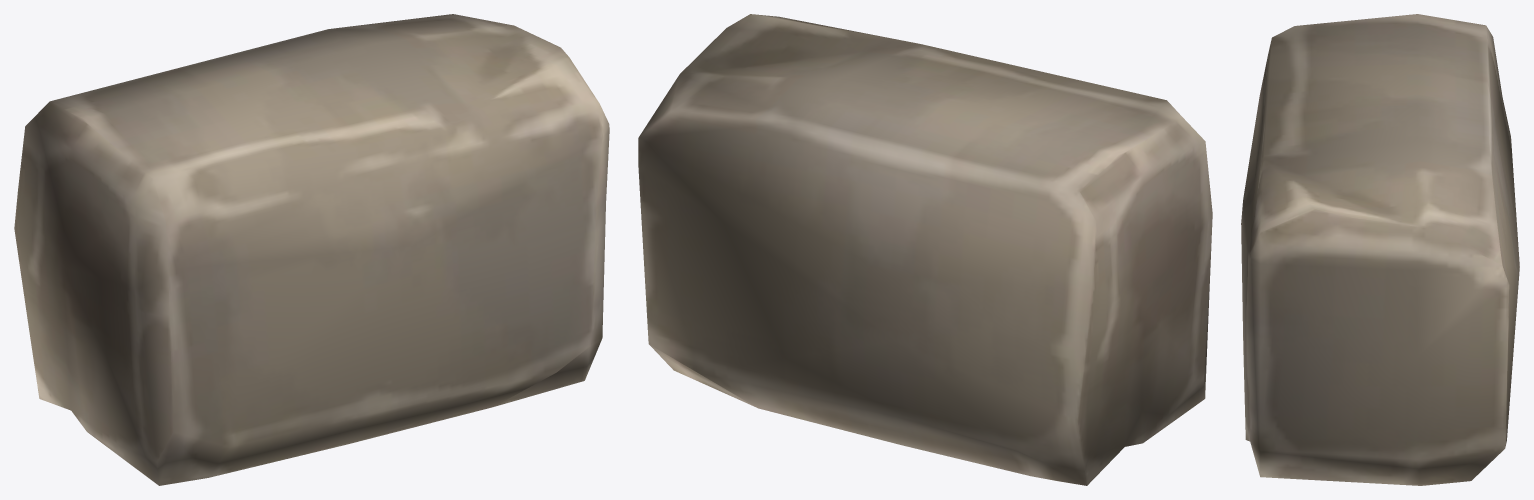
Rendered from Prop_Brick3.glb.
The picture shows the model from 3 angles, left to right: view 1: azimuth 30°, elevation 25°; view 2: azimuth 150°, elevation 25°; view 3: azimuth 270°, elevation 25°; orthographic projection. The views are drawn at different scales.
Visible parts, largest first — view 1: Prop_Brick3; view 2: Prop_Brick3; view 3: Prop_Brick3.
Boxes of the visible parts, box(x1,y1,x2,y2) form: Prop_Brick3: box(14, 14, 609, 485); Prop_Brick3: box(638, 14, 1212, 485); Prop_Brick3: box(1241, 14, 1519, 485).
Bounding box in the file's own units: 0.3814 × 0.2497 × 0.2156.
Materials: 1 (1 with a texture image).
